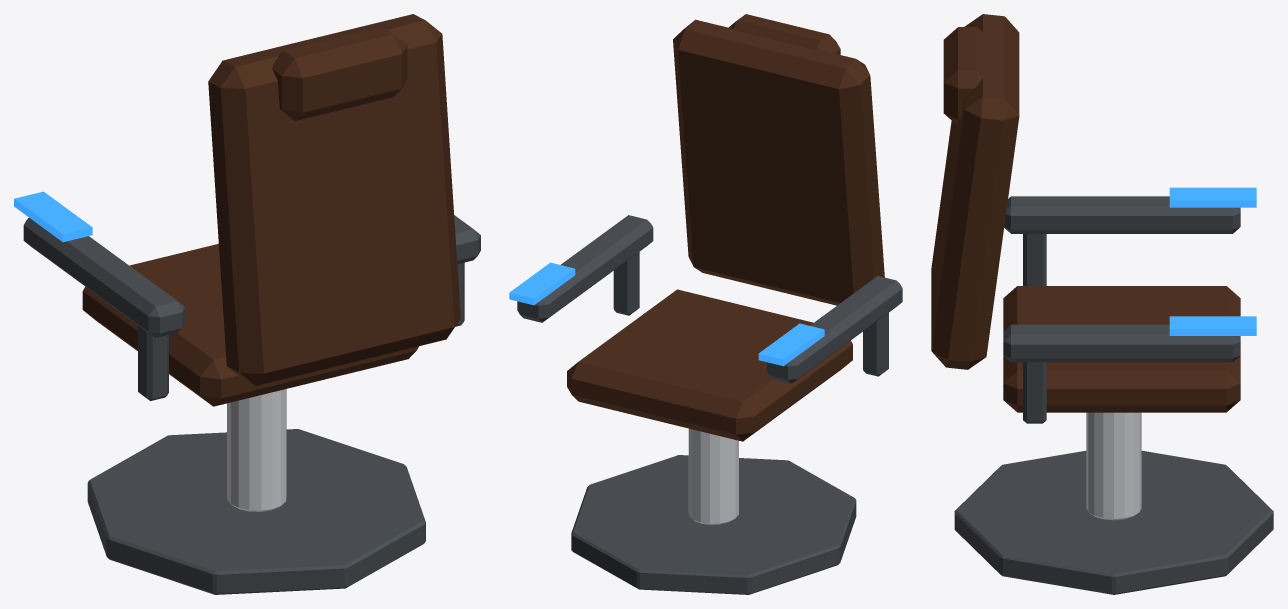
The model's file is captains_chair.glb.
3 views of the same model, side by side, from view 1: azimuth 30°, elevation 25°; view 2: azimuth 150°, elevation 25°; view 3: azimuth 270°, elevation 25° (orthographic). The views are drawn at different scales.
Visible parts, largest first — view 1: captains_chair; view 2: captains_chair; view 3: captains_chair.
Part boxes in pixels (x1,y1,x2,y2): captains_chair: [14, 14, 480, 594]; captains_chair: [509, 14, 902, 594]; captains_chair: [931, 14, 1273, 594].
Bounding box in the file's own units: 0.9 × 1.4 × 0.9.
